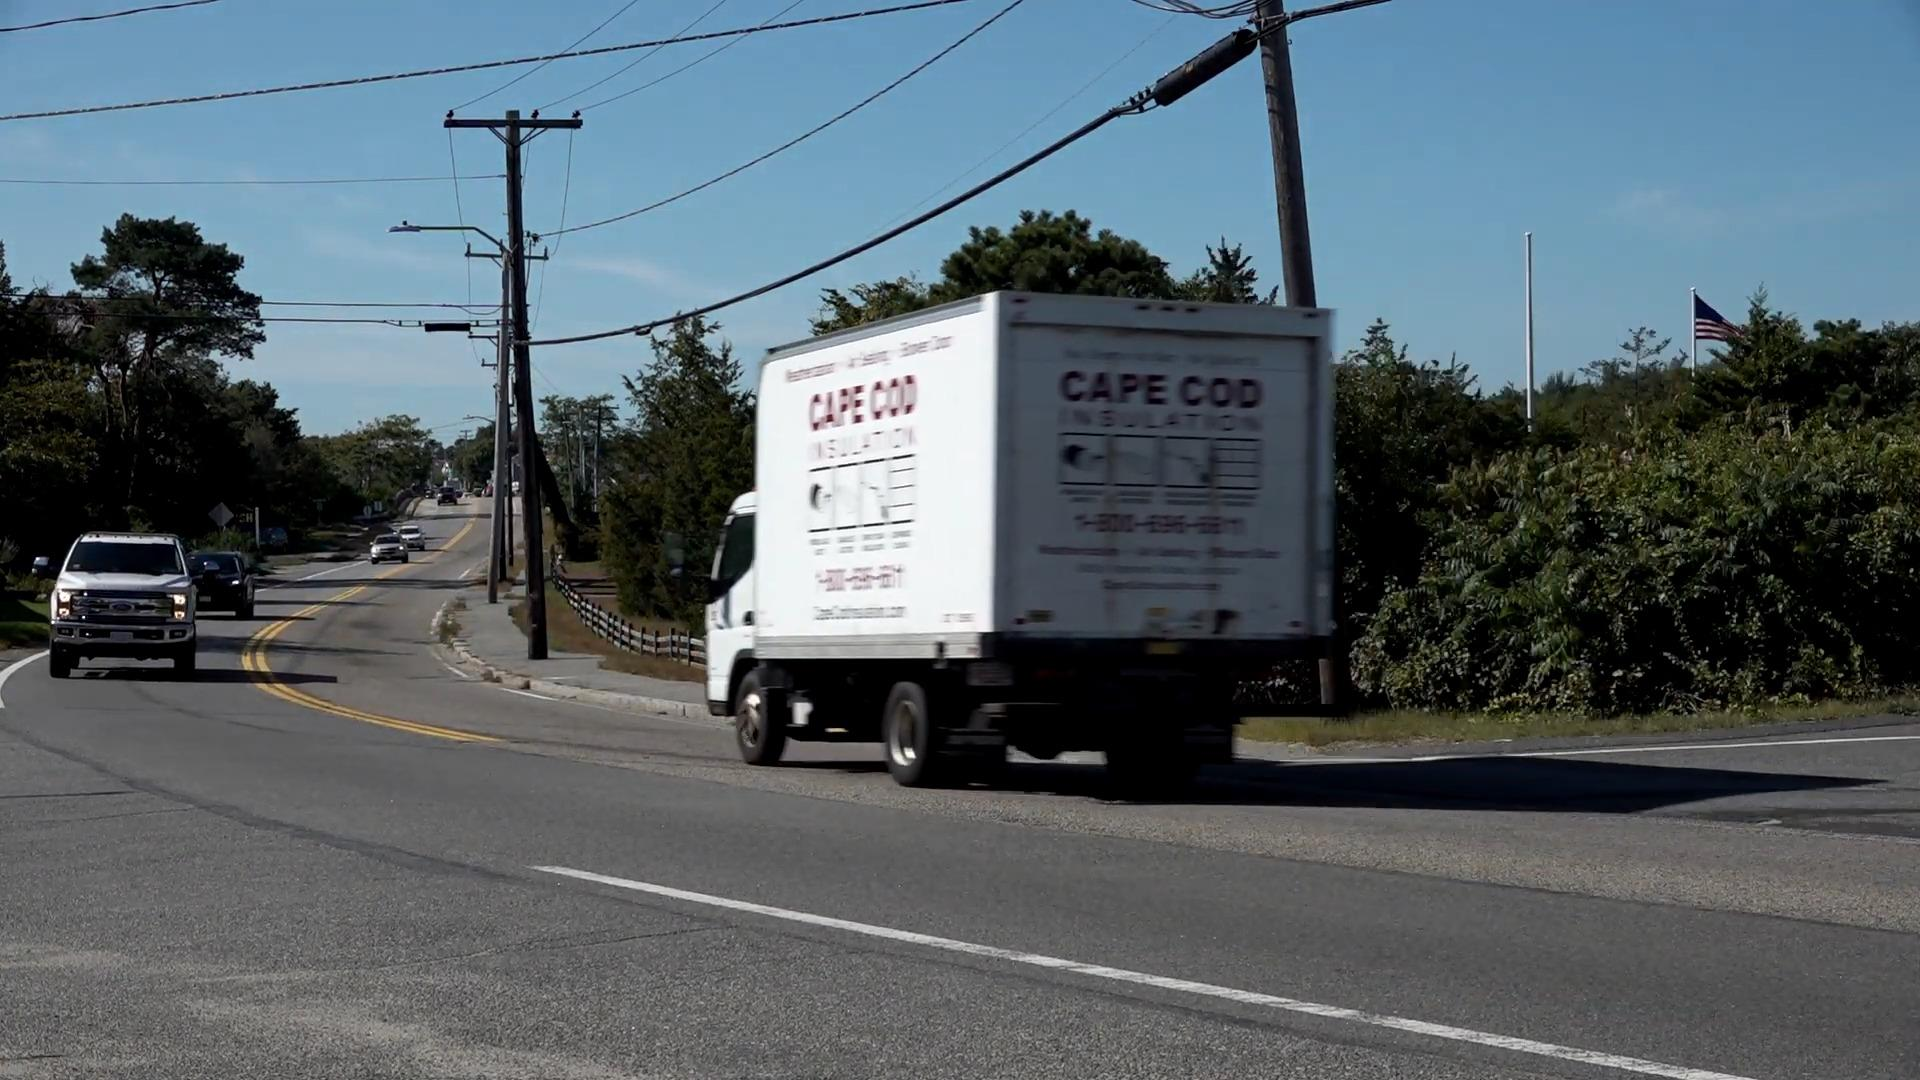pickup: (41, 530, 207, 680)
truck: (703, 290, 1333, 786)
